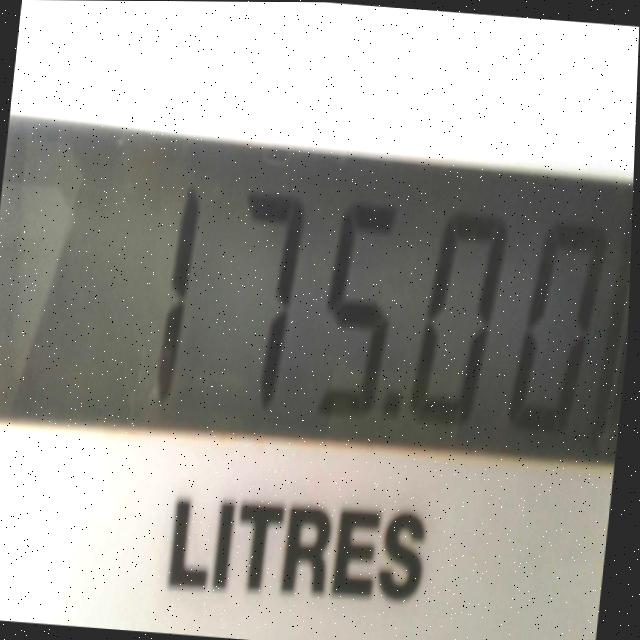.: (377, 372, 410, 446)
0: (405, 205, 515, 442), (503, 205, 609, 440)
1: (146, 175, 225, 425)
5: (320, 201, 402, 415)
7: (224, 182, 314, 413)
